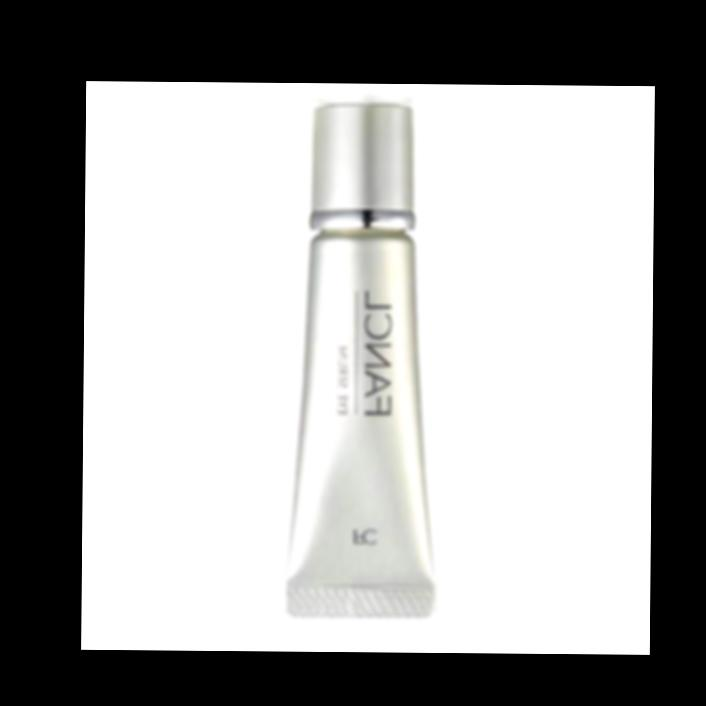cosmetic: (286, 102, 429, 621)
